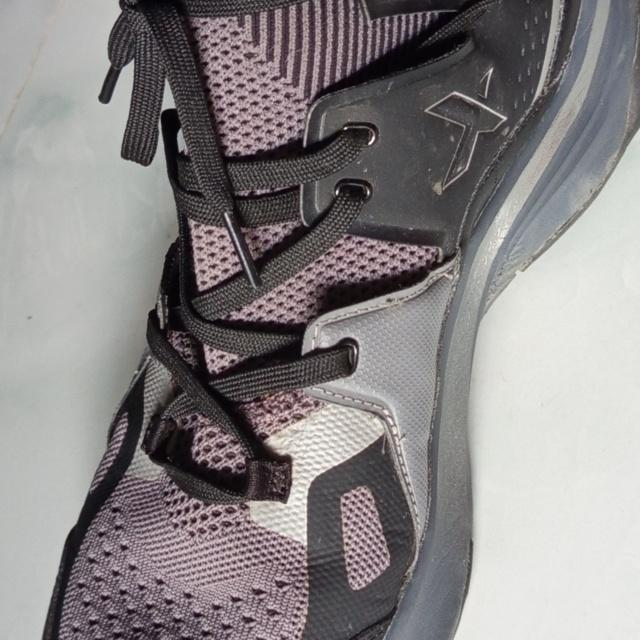broken: (382, 294, 410, 310)
